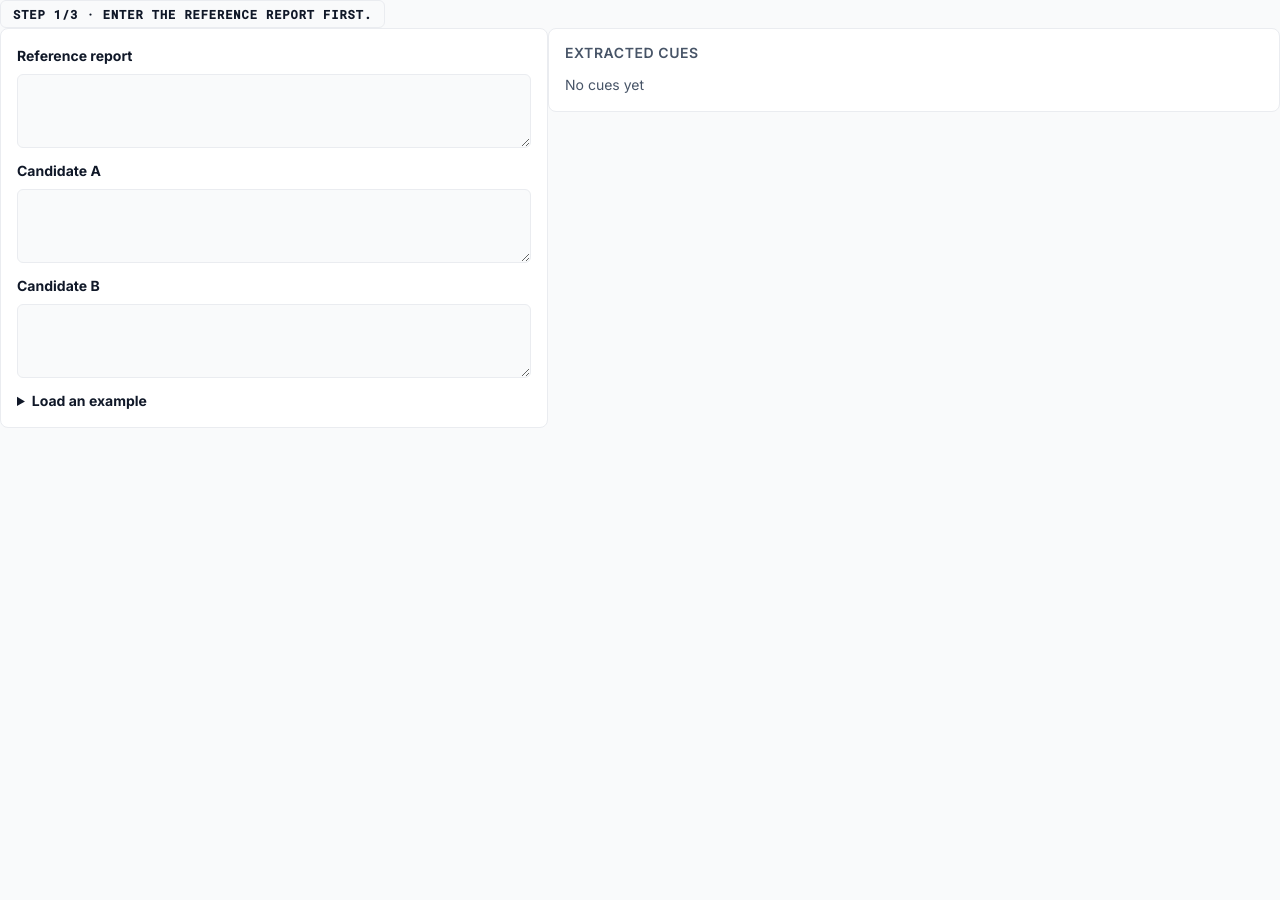
Test: report generation Playground › renders a compact result summary before the full metric table
Step 1. Type "Right pneumothorax has improved. No pleural effusion." into the text box labelled "Reference report" → [274, 111], box [17,74,531,148]
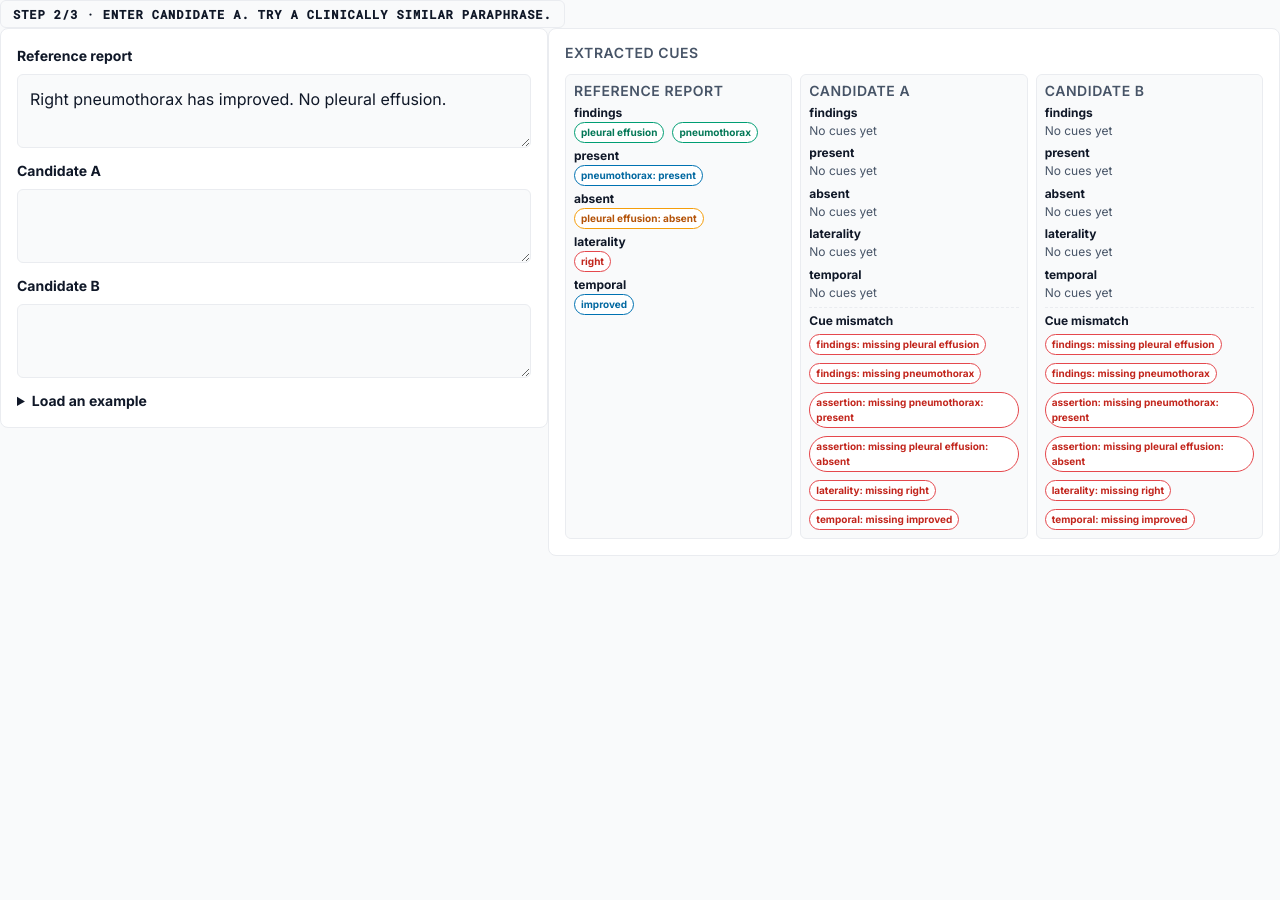
Step 2. Type "Right pneumothorax has improved. No pleural effusion." into the text box labelled "Candidate A" → [274, 226], box [17,189,531,263]
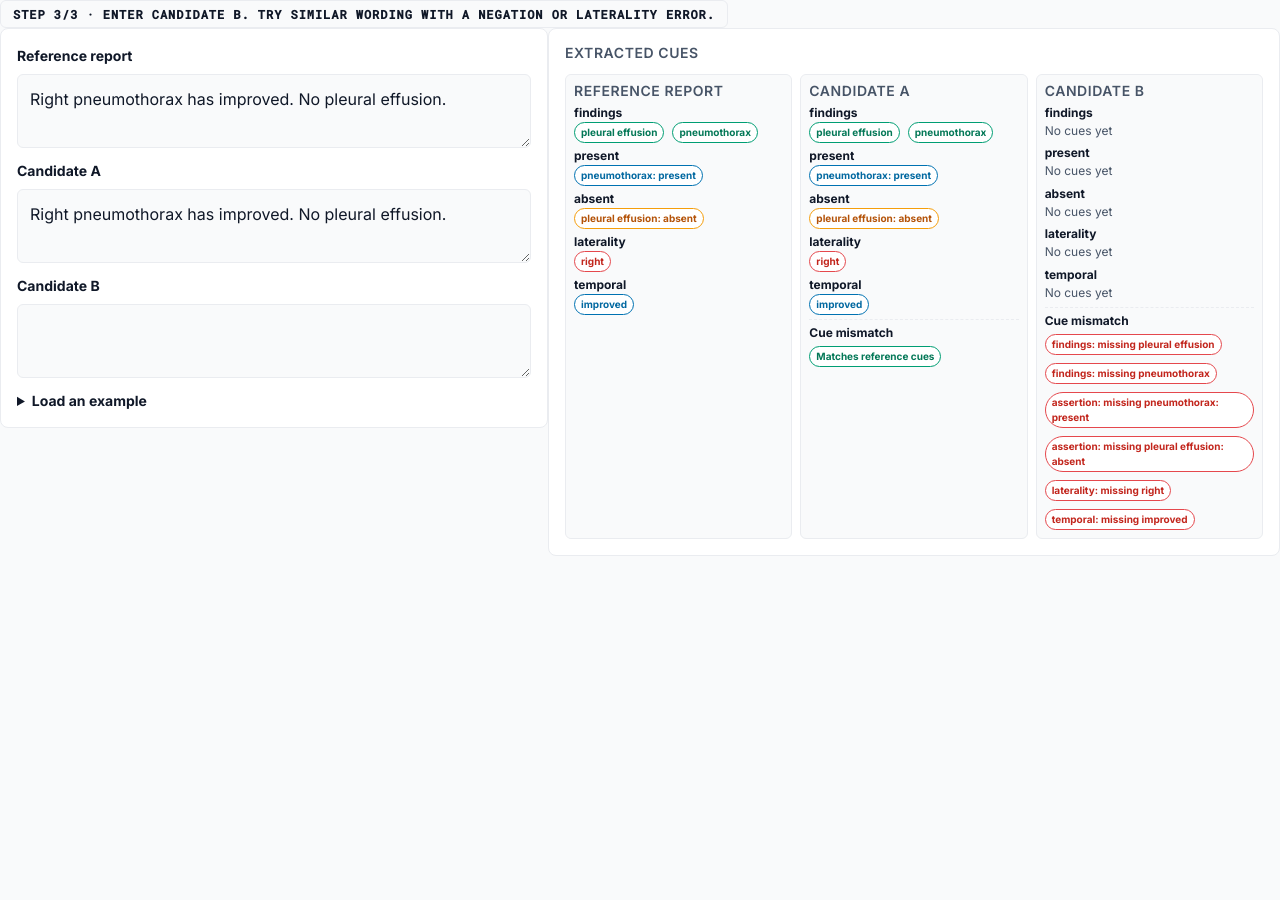
Step 3. Type "Left pneumothorax has worsened. Pleural effusion is present." into the text box labelled "Candidate B" → [274, 341], box [17,304,531,378]
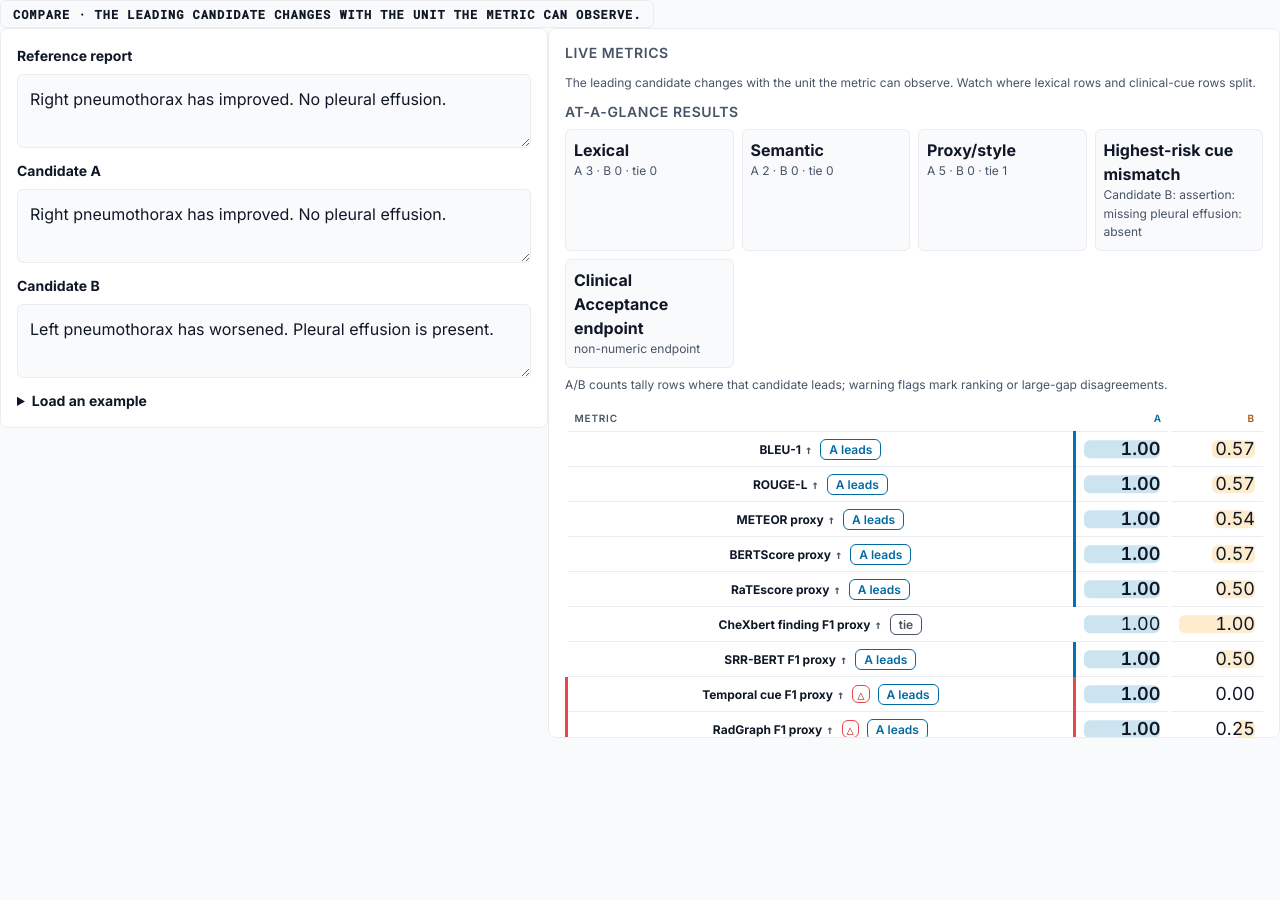
Now the text "Lexical" is shown, box [574,140,629,160]
Now the text "Semantic" is shown, box [750,140,824,160]
Now the text "Proxy/style" is shown, box [927,140,1016,160]
